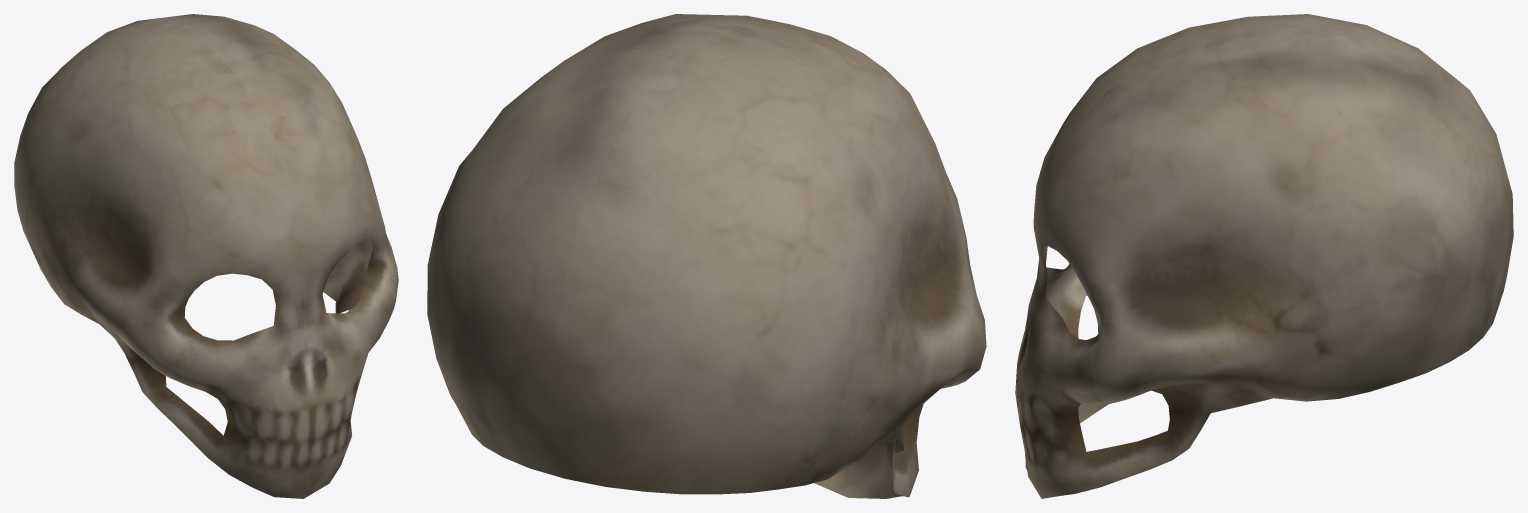
File: Prop_skull.fbx
3 renders of one model, left to right at view 1: azimuth 30°, elevation 25°; view 2: azimuth 150°, elevation 25°; view 3: azimuth 270°, elevation 25°, orthographic. The views are drawn at different scales.
Visible parts, largest first — view 1: Prop_skull; view 2: Prop_skull; view 3: Prop_skull.
Boxes of the visible parts, <box> form: Prop_skull: <box>14,14,398,498</box>; Prop_skull: <box>427,14,986,498</box>; Prop_skull: <box>1015,14,1513,498</box>.
Bounding box in the file's own units: 0.9064 × 1.18 × 1.17.
